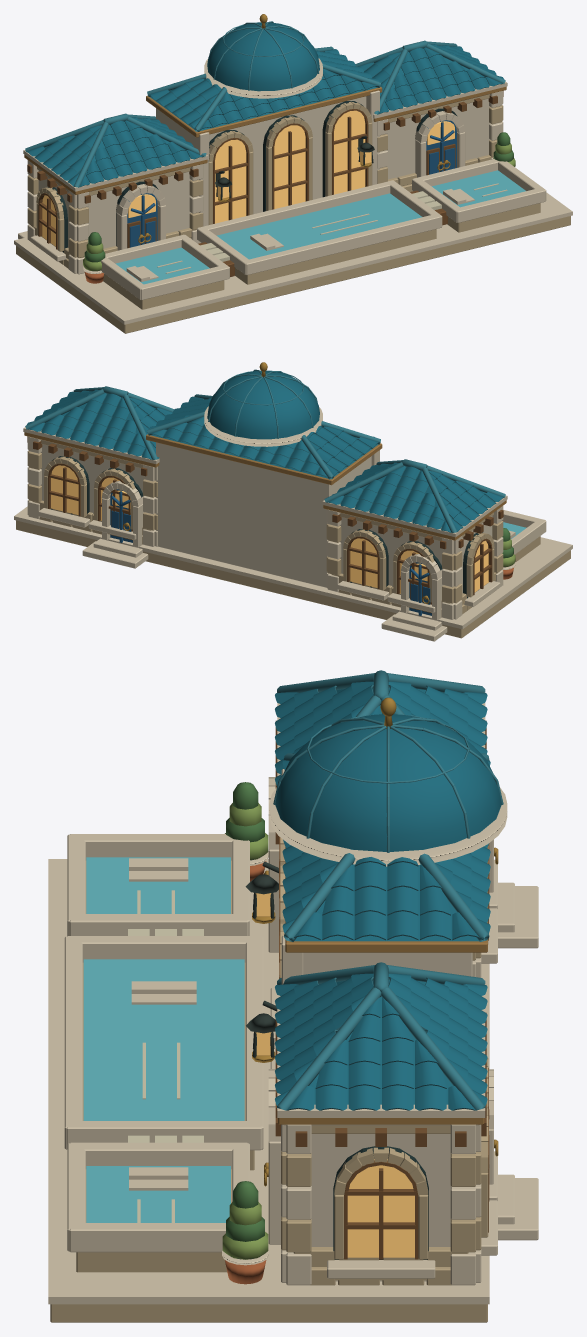
The picture shows the model from 3 angles, top to bottom: view 1: azimuth 30°, elevation 25°; view 2: azimuth 150°, elevation 25°; view 3: azimuth 270°, elevation 25°; orthographic projection. The views are drawn at different scales.
Parts seen in each view (by area): view 1: harbor_onsen_2_geometry; view 2: harbor_onsen_2_geometry; view 3: harbor_onsen_2_geometry.
Part boxes in pixels (x1,y1,x2,y2): harbor_onsen_2_geometry: (14,14,572,333); harbor_onsen_2_geometry: (14,362,572,641); harbor_onsen_2_geometry: (48,670,538,1322).
Bounding box in the file's own units: 2.16 × 0.9353 × 1.02.
